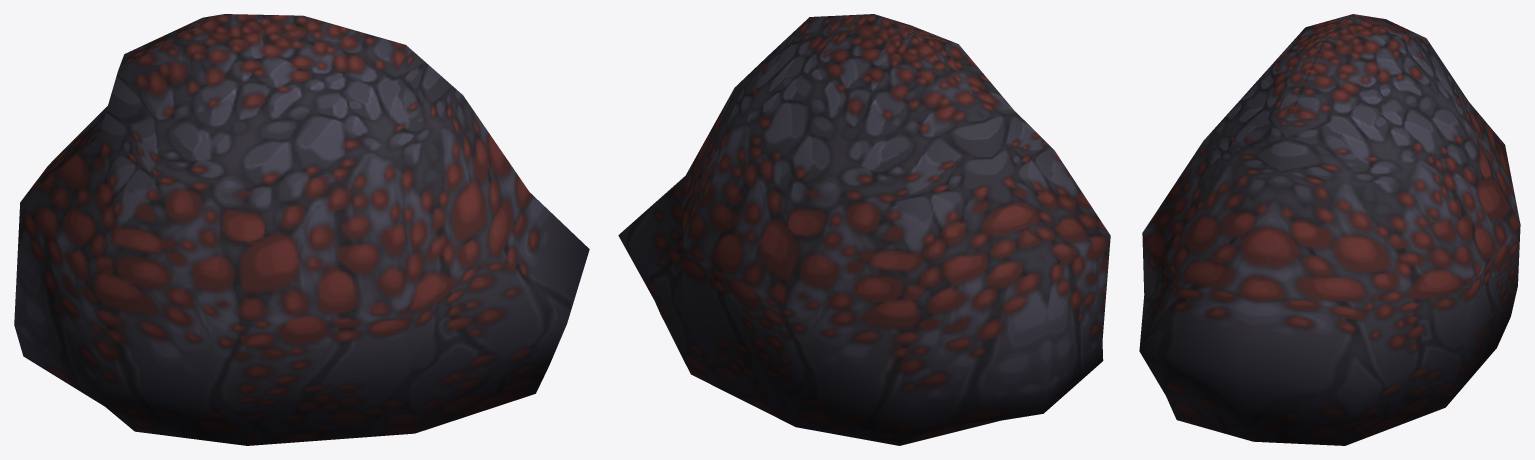
The model's file is Rock_03e.FBX.
The picture shows the model from 3 angles, left to right: view 1: azimuth 30°, elevation 25°; view 2: azimuth 150°, elevation 25°; view 3: azimuth 270°, elevation 25°; orthographic projection. The views are drawn at different scales.
Visible parts, largest first — view 1: Rock_03e; view 2: Rock_03e; view 3: Rock_03e.
Boxes of the visible parts, <box> form: Rock_03e: <box>14,14,589,445</box>; Rock_03e: <box>618,14,1110,445</box>; Rock_03e: <box>1139,14,1520,445</box>.
Bounding box in the file's own units: 33.77 × 24.25 × 26.55.
